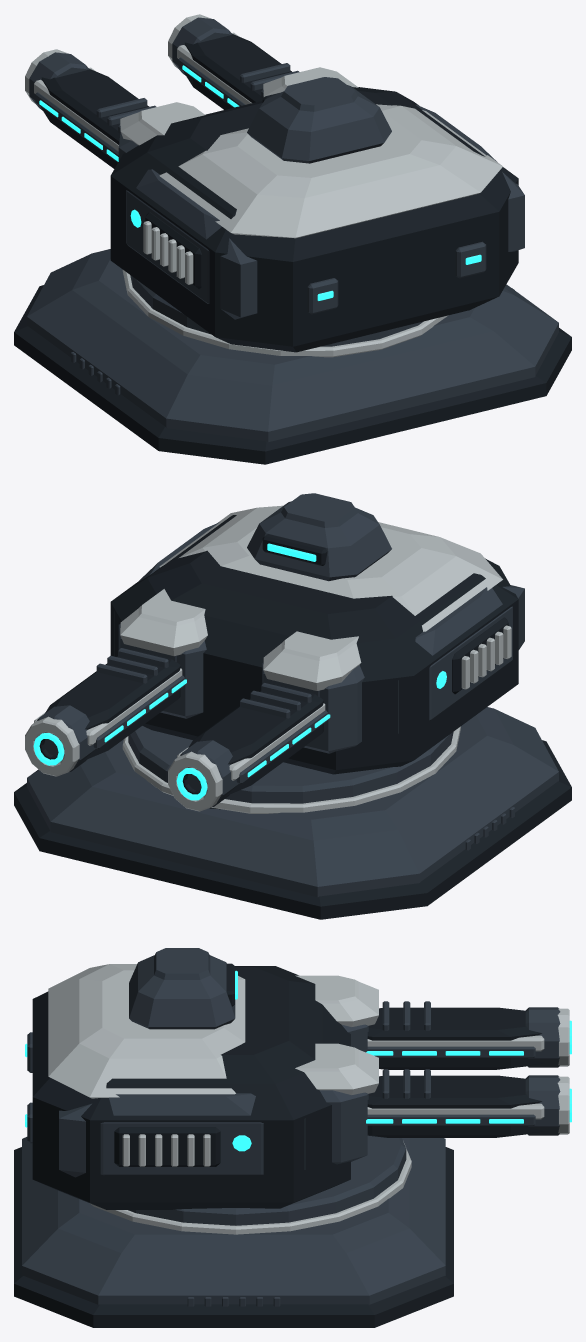
File: mothership_turret_battery.glb
The picture shows the model from 3 angles, top to bottom: view 1: azimuth 30°, elevation 25°; view 2: azimuth 150°, elevation 25°; view 3: azimuth 270°, elevation 25°; orthographic projection. The views are drawn at different scales.
Visible parts, largest first — view 1: Traverse assembly, Foundation and chassis, Elevation assembly; view 2: Traverse assembly, Foundation and chassis, Elevation assembly; view 3: Traverse assembly, Foundation and chassis, Elevation assembly.
Part boxes in pixels (box(x1,y1,x2,y2)): Traverse assembly: box(110, 77, 524, 352); Foundation and chassis: box(14, 249, 571, 464); Elevation assembly: box(25, 14, 358, 168); Traverse assembly: box(110, 493, 524, 803); Foundation and chassis: box(14, 707, 571, 919); Elevation assembly: box(25, 589, 364, 811); Traverse assembly: box(25, 948, 406, 1225); Foundation and chassis: box(14, 1137, 453, 1327); Elevation assembly: box(295, 975, 571, 1164).
Bounding box in the file's own units: 10 × 6.5 × 12.
